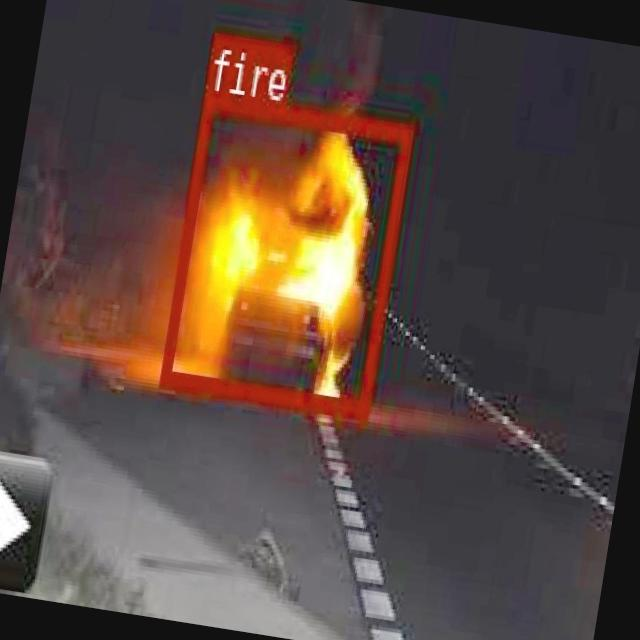fire: (159, 90, 412, 416)
